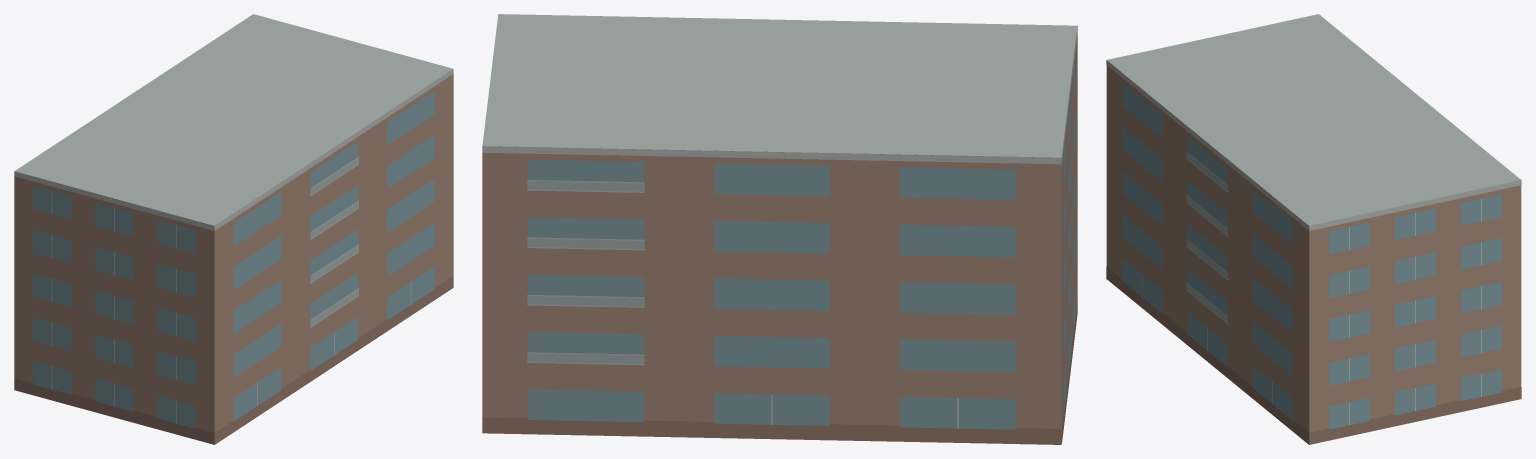
The model's file is survey-upis-32741315.glb.
3 views of the same model, side by side, from view 1: azimuth 30°, elevation 25°; view 2: azimuth 150°, elevation 25°; view 3: azimuth 270°, elevation 25° (orthographic). The views are drawn at different scales.
Visible parts, largest first — view 1: survey-upis-32741315.tmp; view 2: survey-upis-32741315.tmp; view 3: survey-upis-32741315.tmp.
Boxes of the visible parts, left/top/right/bottom form: survey-upis-32741315.tmp: left=14, top=14, right=453, bottom=444; survey-upis-32741315.tmp: left=482, top=14, right=1077, bottom=444; survey-upis-32741315.tmp: left=1106, top=14, right=1521, bottom=444.
Size of the model in its own units: 21.81 by 10.5 by 18.05.
